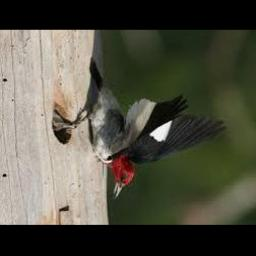Woodpecker: (54, 59, 225, 199)
